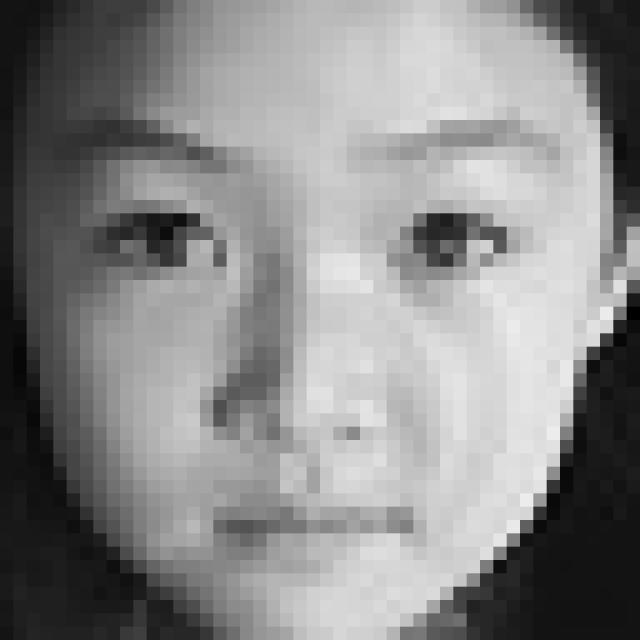neutral: (47, 109, 571, 581)
